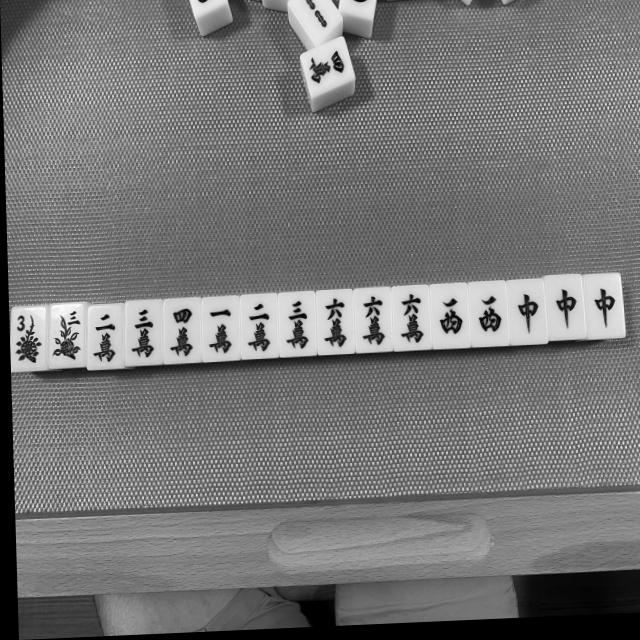1C: (202, 297, 239, 362)
2C: (240, 294, 278, 358), (87, 304, 123, 369)
3C: (278, 291, 316, 357), (126, 302, 161, 366)
3F: (11, 305, 46, 370)
3S: (50, 304, 85, 368)
4C: (164, 298, 200, 363)
6C: (391, 286, 432, 351), (353, 287, 393, 353), (316, 288, 355, 355)
RD: (585, 274, 626, 339), (508, 279, 548, 345), (547, 276, 586, 341)
WW: (430, 283, 471, 350), (468, 281, 509, 347)
